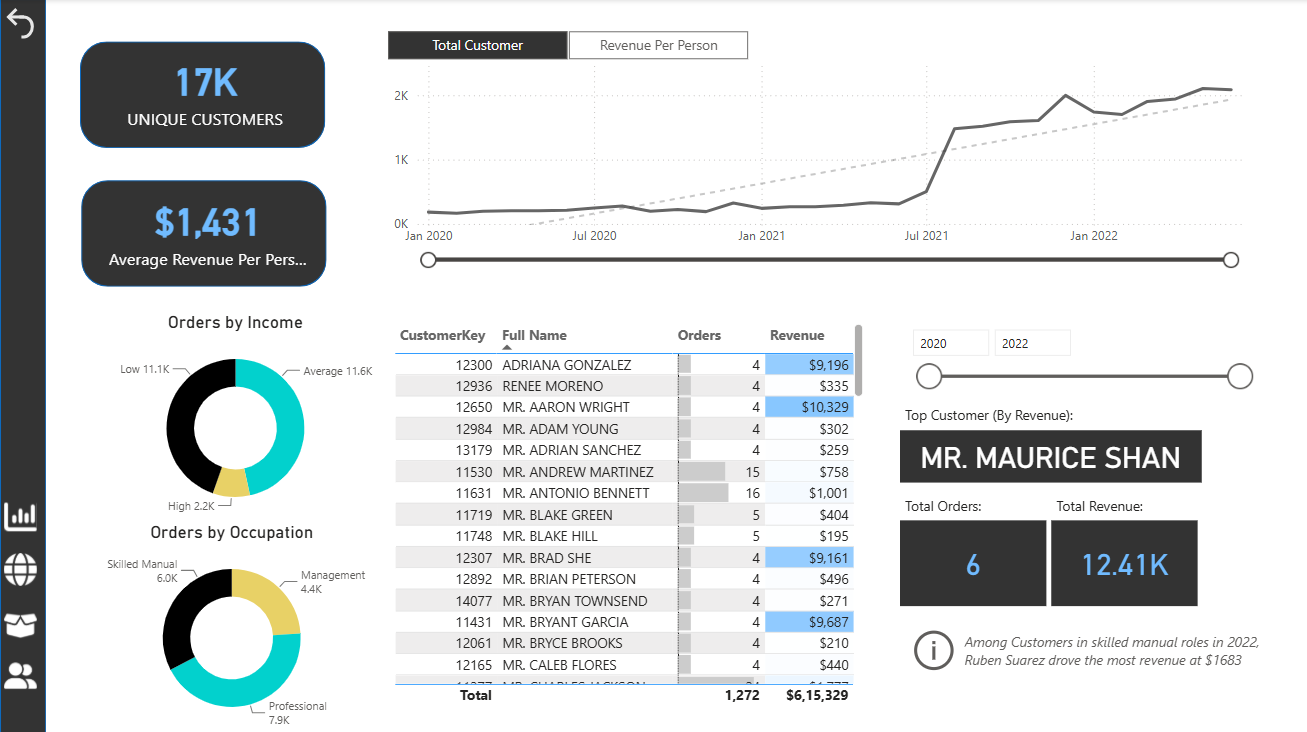

This screenshot's page, from the dashboard's own definition file:
{"tool":"powerbi","page":{"name":"Customer Detail","canvas":[1280,720],"ordinal":3},"visuals":[{"type":"card","fields":{"Values":["Measure Table.Total Customer"]},"box":[98,31.2,206.2,113.8],"z":0,"group":"g3"},{"type":"shape","box":[78.8,41.4,239.9,104.1],"z":0,"group":"g1"},{"type":"lineChart","title":"Weekly Customer","fields":{"Category":["Calendar Lookup.Date Hierarchy.Start of Year","Calendar Lookup.Date Hierarchy.Start of Month","Calendar Lookup.Date Hierarchy.Start of Week","Calendar Lookup.Date Hierarchy.Date"],"Y":["Measure Table.Total Customer"]},"box":[380,49.3,853.3,217.3],"z":0},{"type":"shape","box":[0,0,45,720],"z":1000},{"type":"group","id":"g1","title":"KPI Cards","box":[78.8,41.4,241.2,239.5],"z":1000,"group":"g2"},{"type":"card","fields":{"Values":["Measure Table.Average Revenue Per Person"]},"box":[100,166.9,206.6,115.9],"z":1000,"group":"g3"},{"type":"shape","box":[80.1,176.8,239.9,104.1],"z":1000,"group":"g1"},{"type":"group","id":"g2","title":"KPIs","box":[78.8,31.2,241.2,251.2],"z":2000},{"type":"group","id":"g3","title":"KPI Value","box":[98,31.2,208.6,251.6],"z":2000,"group":"g2"},{"type":"donutChart","title":"Orders by Income","fields":{"Series":["Customer Lookup.Income Level"],"Y":["Measure Table.Total Orders"]},"box":[81.9,305.7,297.1,209.1],"z":3000},{"type":"donutChart","title":"Orders by Occupation","fields":{"Series":["Customer Lookup.Occupation"],"Y":["Measure Table.Total Orders"]},"box":[78.3,511.1,297.1,209.1],"z":4000},{"type":"tableEx","fields":{"Values":["Customer Lookup.CustomerKey","Customer Lookup.Full Name","Measure Table.Total Orders","Measure Table.Total Revenue"]},"box":[379.7,312.9,469.3,382.6],"z":5000},{"type":"card","fields":{"Values":["Measure Table.Total Orders (Customer Details)"]},"box":[880.3,510.4,143.1,84.4],"z":6000},{"type":"textbox","box":[880,392.5,199.3,28.1],"z":7000},{"type":"card","fields":{"Values":["Measure Table.Full Name ( Customer Detail)"]},"box":[880.5,421.3,294.9,50.9],"z":8000},{"type":"textbox","box":[880.3,482.3,143.1,28.1],"z":9000},{"type":"card","fields":{"Values":["Measure Table.Total Revenue (Customer Detail)"]},"box":[1028.3,510.4,143.1,84.4],"z":10000},{"type":"textbox","box":[1028.3,482.3,143.1,28.1],"z":11000},{"type":"slicer","fields":{"Values":["Calendar Lookup.Year"]},"box":[880,312.5,353.8,80],"z":12000},{"type":"actionButton","box":[880,603.8,383.8,66.2],"z":13000},{"type":"actionButton","box":[0,3.8,45,40],"z":14000},{"type":"actionButton","box":[0,486.2,45,40],"z":15000},{"type":"actionButton","box":[0,537.5,45,40],"z":16000},{"type":"actionButton","box":[0,592.5,45,40],"z":17000},{"type":"actionButton","box":[0,642.5,45,40],"z":18000},{"type":"slicer","fields":{"Values":["Parameter.Parameter"]},"box":[353.3,24,402.7,41.3],"z":19500}]}

Visuals, with their boxes on the page's 1280x720 design canvas (x1, y1, x2, y2). These are canvas units, not pixel positions in the 1307x732 screenshot, which may show the page scaled, cropped or inside an application window:
card - Measure Table.Total Customer: Rect(98, 31, 304, 145)
shape: Rect(79, 41, 319, 146)
"Weekly Customer" lineChart: Rect(380, 49, 1233, 267)
shape: Rect(0, 0, 45, 720)
"KPI Cards" group: Rect(79, 41, 320, 281)
card - Measure Table.Average Revenue Per Person: Rect(100, 167, 307, 283)
shape: Rect(80, 177, 320, 281)
"KPIs" group: Rect(79, 31, 320, 282)
"KPI Value" group: Rect(98, 31, 307, 283)
"Orders by Income" donutChart: Rect(82, 306, 379, 515)
"Orders by Occupation" donutChart: Rect(78, 511, 375, 720)
tableEx - Customer Lookup.CustomerKey x Customer Lookup.Full Name: Rect(380, 313, 849, 696)
card - Measure Table.Total Orders (Customer Details): Rect(880, 510, 1023, 595)
textbox: Rect(880, 392, 1079, 421)
card - Measure Table.Full Name ( Customer Detail): Rect(880, 421, 1175, 472)
textbox: Rect(880, 482, 1023, 510)
card - Measure Table.Total Revenue (Customer Detail): Rect(1028, 510, 1171, 595)
textbox: Rect(1028, 482, 1171, 510)
slicer - Calendar Lookup.Year: Rect(880, 312, 1234, 392)
actionButton: Rect(880, 604, 1264, 670)
actionButton: Rect(0, 4, 45, 44)
actionButton: Rect(0, 486, 45, 526)
actionButton: Rect(0, 538, 45, 578)
actionButton: Rect(0, 592, 45, 632)
actionButton: Rect(0, 642, 45, 682)
slicer - Parameter.Parameter: Rect(353, 24, 756, 65)
